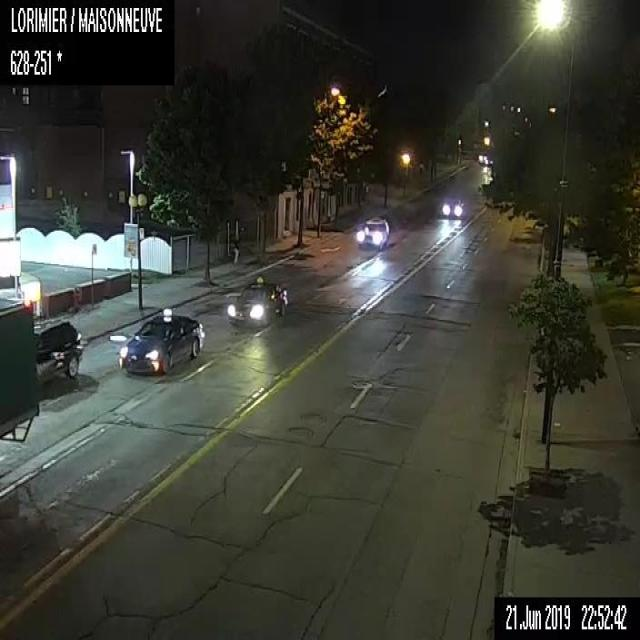vehicle: (0, 292, 39, 441), (118, 307, 205, 372), (226, 276, 289, 327), (32, 318, 82, 379), (354, 218, 389, 247), (440, 195, 465, 217)
